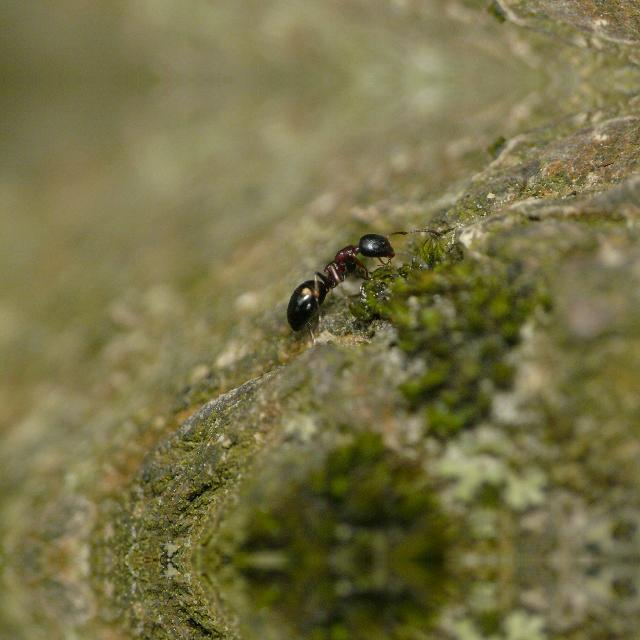Dolichoderus: (259, 214, 417, 346)
